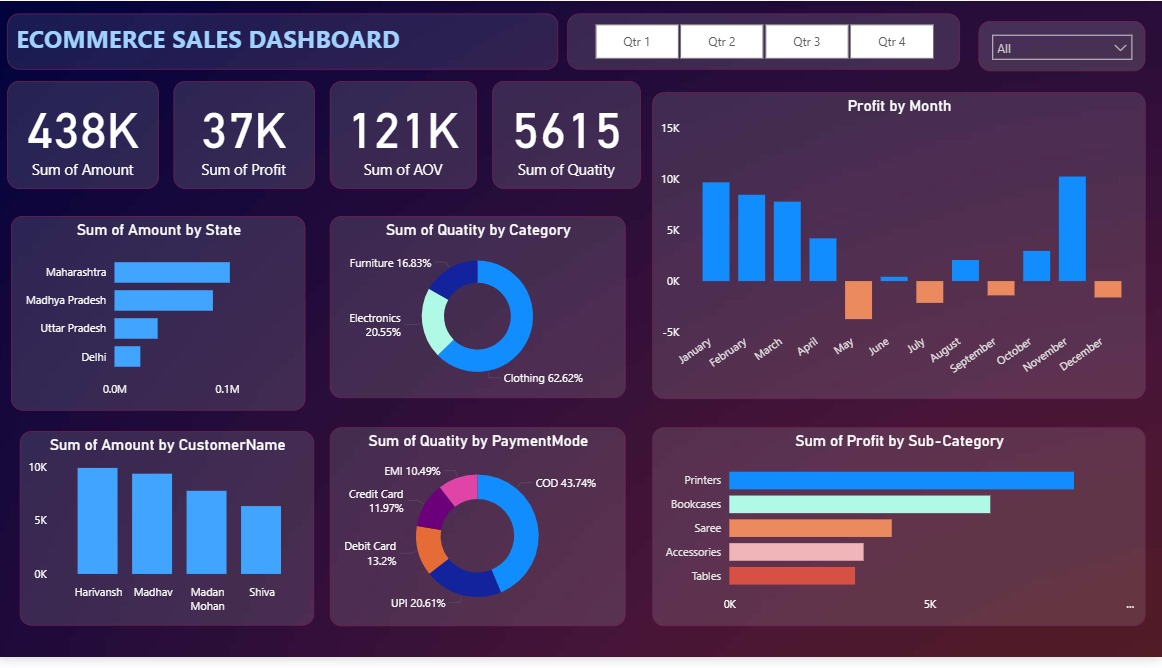

This screenshot's page, from the dashboard's own definition file:
{"tool":"powerbi","page":{"name":"Page 1","canvas":[1280,720],"ordinal":0},"visuals":[{"type":"textbox","box":[12.3,13.7,605.1,61.7],"z":0},{"type":"columnChart","title":"Profit by Month","fields":{"Category":["Orders.Order Date.Variation.Date Hierarchy.Month"],"Y":["Details.Profit"]},"box":[720,100,541.7,336.7],"z":1000},{"type":"clusteredBarChart","fields":{"Category":["Details.Sub-Category"],"Y":["Details.Profit"]},"box":[720,468.3,541.7,218.3],"z":2000},{"type":"donutChart","fields":{"Category":["Details.Category"],"Y":["Details.Quatity"]},"box":[366.7,236.7,325,200],"z":3000},{"type":"donutChart","fields":{"Category":["Details.PaymentMode"],"Y":["Details.Quatity"]},"box":[366.7,468.3,325,218.3],"z":4000},{"type":"card","fields":{"Values":["Details.Amount"]},"box":[11.7,88.3,166.7,118.3],"z":5000},{"type":"card","fields":{"Values":["Details.Profit"]},"box":[195,88.3,155,118.3],"z":6000},{"type":"card","fields":{"Values":["Details.Quatity"]},"box":[545,88.3,163.3,118.3],"z":7000},{"type":"card","fields":{"Values":["Details.AOV"]},"box":[366.7,88.3,161.7,118.3],"z":8000},{"type":"clusteredBarChart","fields":{"Category":["Orders.State"],"Y":["Details.Amount"]},"box":[16.7,236.7,323.3,213.3],"z":9000},{"type":"columnChart","fields":{"Category":["Orders.CustomerName"],"Y":["Details.Amount"]},"box":[26.7,471.7,323.3,213.3],"z":10000},{"type":"slicer","fields":{"Values":["Orders.Order Date.Variation.Date Hierarchy.Quarter"]},"box":[627.1,13.7,430.9,61.7],"z":11000},{"type":"slicer","fields":{"Values":["Orders.State"]},"box":[1078.6,13.7,182.5,63.1],"z":12000}]}

Visuals, with their boxes in screenshot pixels (x1, y1, x2, y2), scaled from the page's 1280x720 canvas onto the 1162x668 screenshot:
textbox: (11,13,560,70)
"Profit by Month" columnChart: (654,93,1145,405)
clusteredBarChart - Details.Sub-Category x Details.Profit: (654,434,1145,637)
donutChart - Details.Category x Details.Quatity: (333,220,628,405)
donutChart - Details.PaymentMode x Details.Quatity: (333,434,628,637)
card - Details.Amount: (11,82,162,192)
card - Details.Profit: (177,82,318,192)
card - Details.Quatity: (495,82,643,192)
card - Details.AOV: (333,82,480,192)
clusteredBarChart - Orders.State x Details.Amount: (15,220,309,418)
columnChart - Orders.CustomerName x Details.Amount: (24,438,318,636)
slicer - Orders.Order Date.Variation.Date Hierarchy.Quarter: (569,13,960,70)
slicer - Orders.State: (979,13,1145,71)
